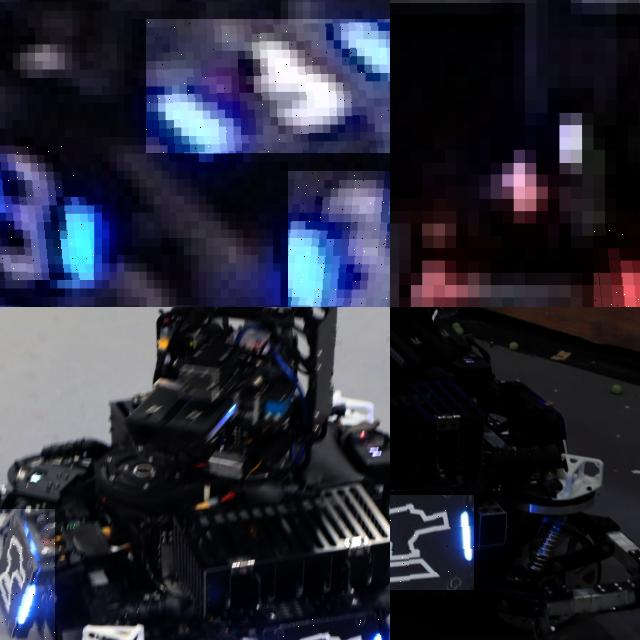B3: (146, 19, 390, 153), (288, 170, 390, 307), (0, 137, 94, 280)
Bs: (390, 495, 474, 589), (0, 509, 54, 640), (251, 609, 382, 640)
